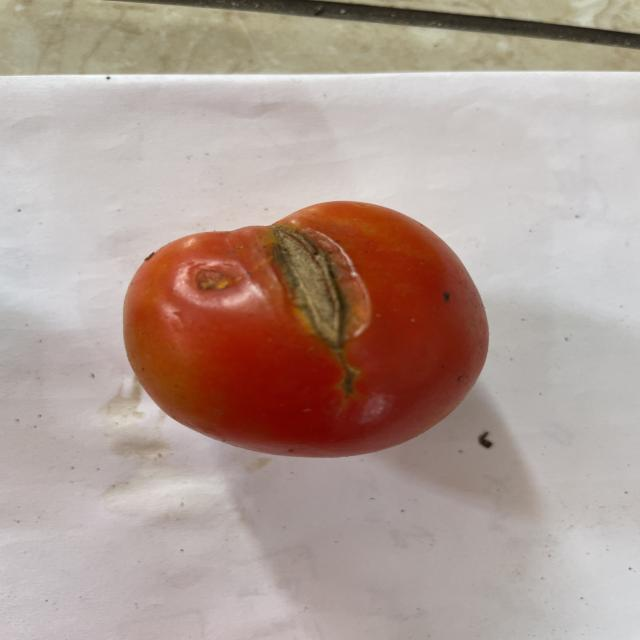tomato_cracking: (264, 222, 382, 370)
